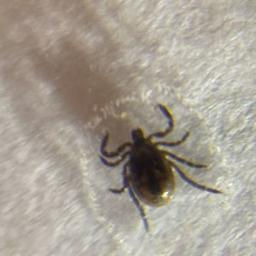Ixodes scapularis: (99, 106, 222, 232)
